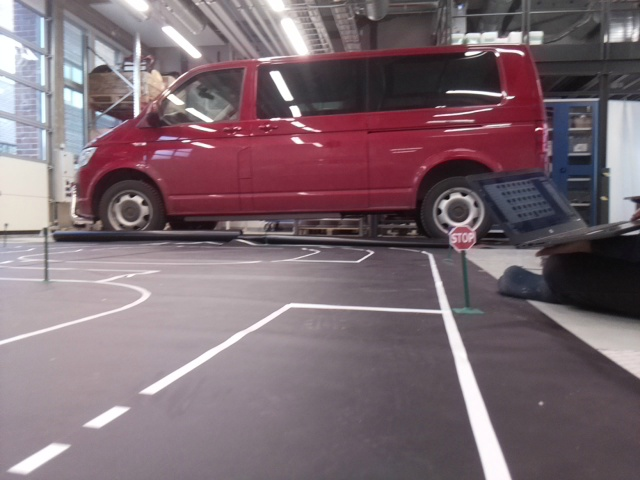Stop: (448, 221, 476, 250)
